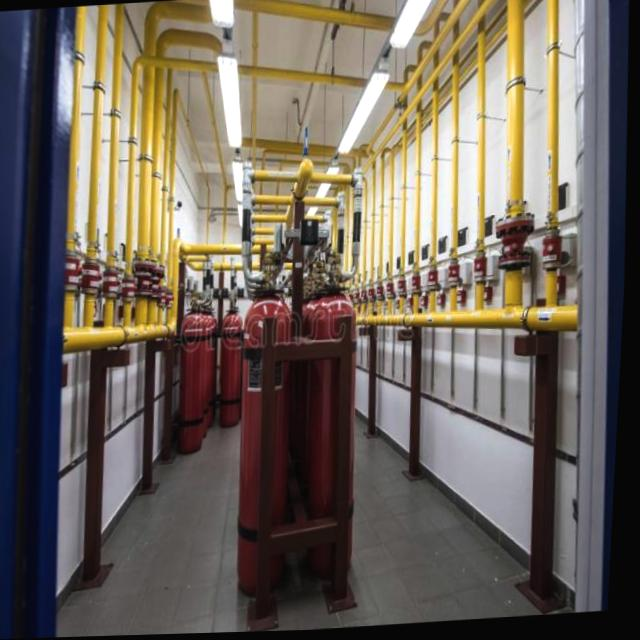FireExtinguisher: (225, 248, 311, 601), (293, 274, 376, 587), (174, 287, 219, 459), (214, 288, 252, 430)
